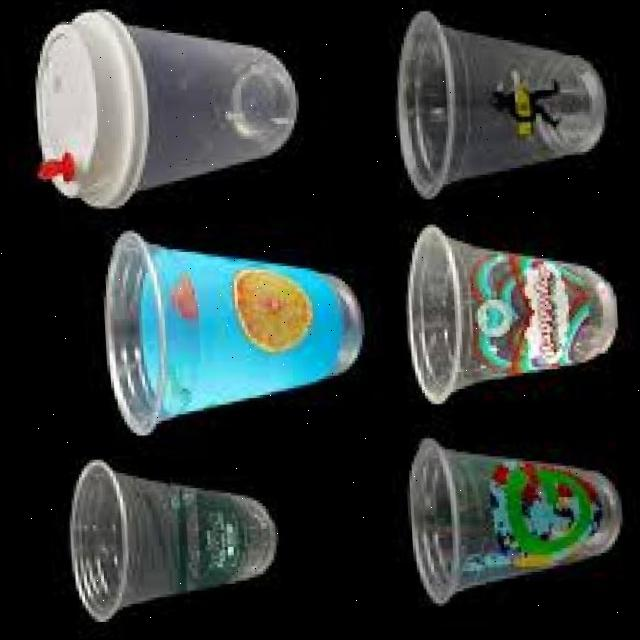cup: (103, 231, 359, 435), (37, 12, 296, 208), (396, 14, 604, 200), (404, 228, 612, 405), (403, 441, 614, 605), (64, 460, 270, 621)
